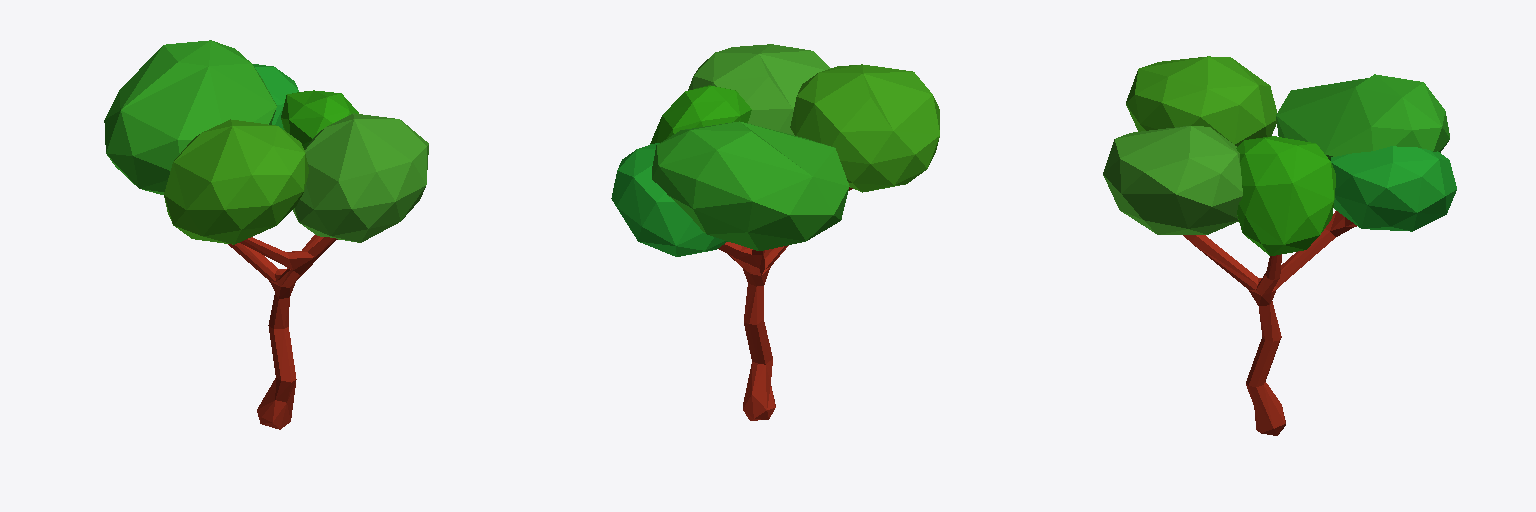
File: tree.obj
3 views of the same model, side by side, from view 1: azimuth 30°, elevation 25°; view 2: azimuth 150°, elevation 25°; view 3: azimuth 270°, elevation 25° (orthographic).
Visible parts, largest first — view 1: tree; view 2: tree; view 3: tree.
Part boxes in pixels (left/top/right/bottom): tree: left=104, top=40, right=428, bottom=429; tree: left=611, top=44, right=939, bottom=420; tree: left=1103, top=56, right=1456, bottom=435.
Bounding box in the file's own units: 3.85 × 5.19 × 4.88.